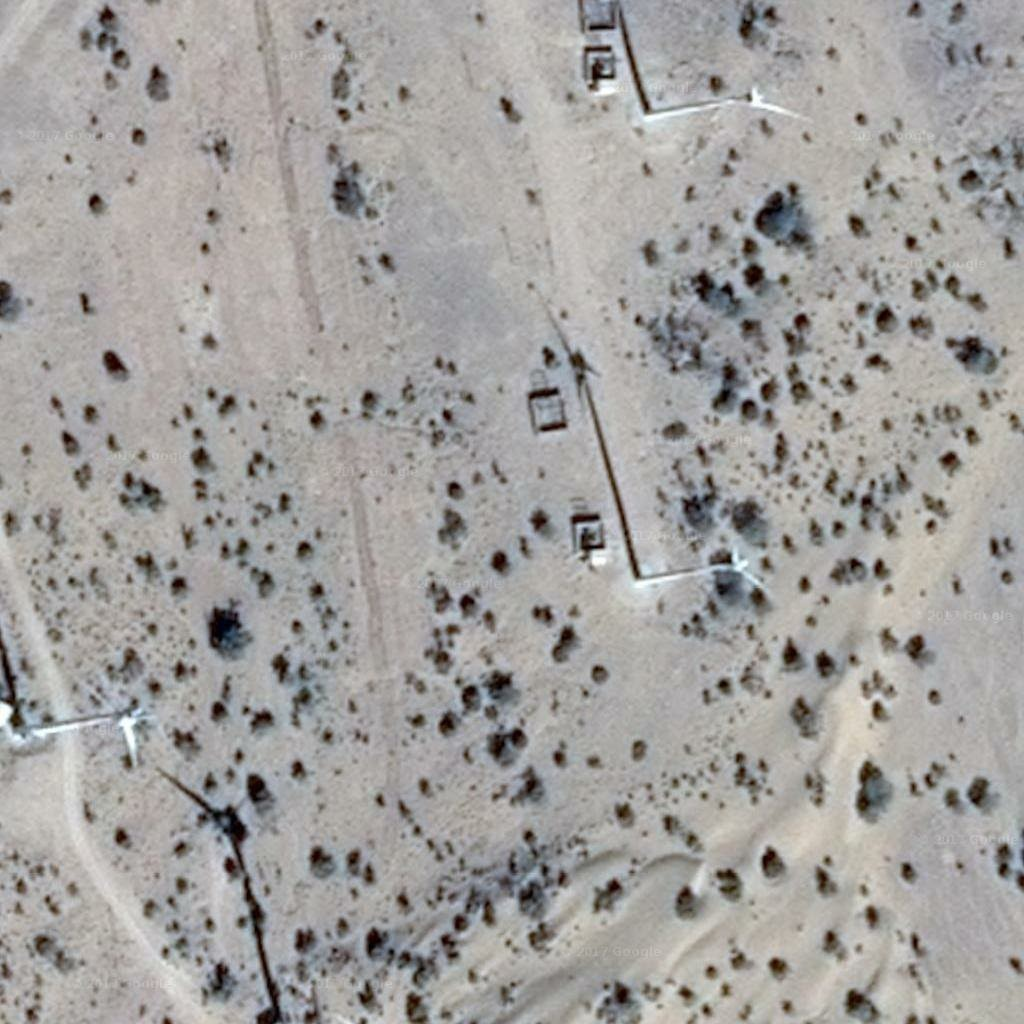Windmill: (537, 289, 644, 571)
